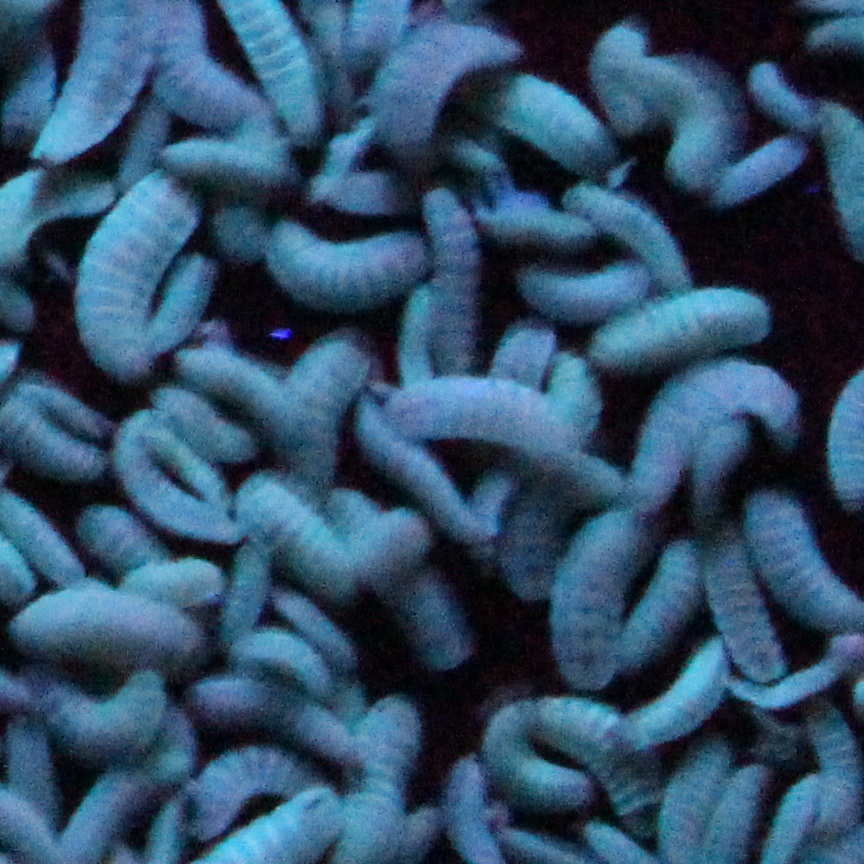larve: (85, 177, 159, 365), (555, 525, 633, 695), (26, 599, 211, 669), (276, 221, 418, 305), (421, 185, 481, 373), (192, 677, 340, 753), (585, 295, 770, 354), (764, 487, 836, 632), (640, 363, 806, 422), (640, 63, 719, 185), (407, 384, 559, 447), (289, 323, 350, 473), (386, 37, 459, 159), (47, 678, 162, 755), (388, 586, 484, 672), (499, 475, 556, 606), (809, 704, 861, 843), (494, 746, 588, 817), (492, 76, 582, 146), (659, 725, 702, 864), (726, 137, 805, 212), (716, 538, 764, 661), (650, 546, 697, 670), (487, 196, 582, 254), (442, 754, 492, 864), (286, 518, 354, 594), (591, 24, 640, 126), (586, 186, 659, 247), (222, 541, 271, 630), (357, 516, 420, 582), (232, 632, 328, 675), (96, 496, 141, 574), (400, 448, 450, 517), (704, 425, 738, 526), (506, 312, 554, 381), (27, 514, 75, 581), (146, 556, 217, 601)
